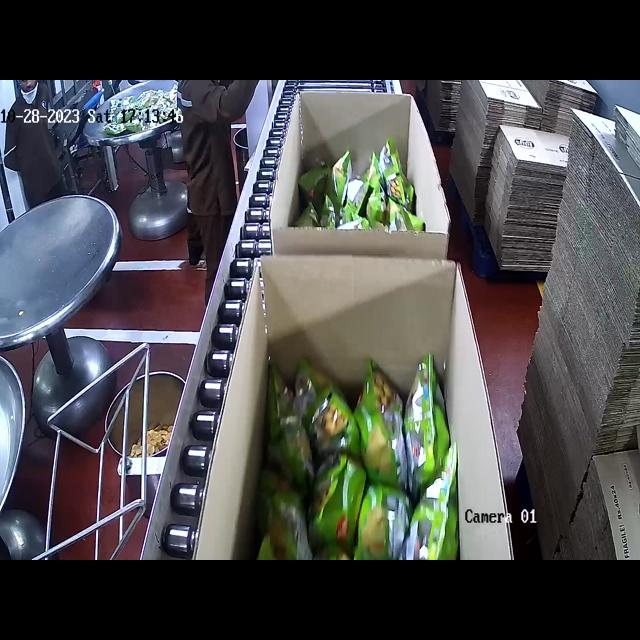yogurt: (256, 351, 459, 558), (300, 136, 429, 230)
